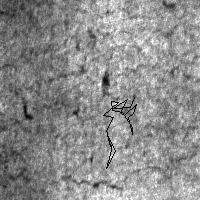crazing: (1, 116, 131, 191), (6, 31, 89, 124), (103, 97, 136, 168)
